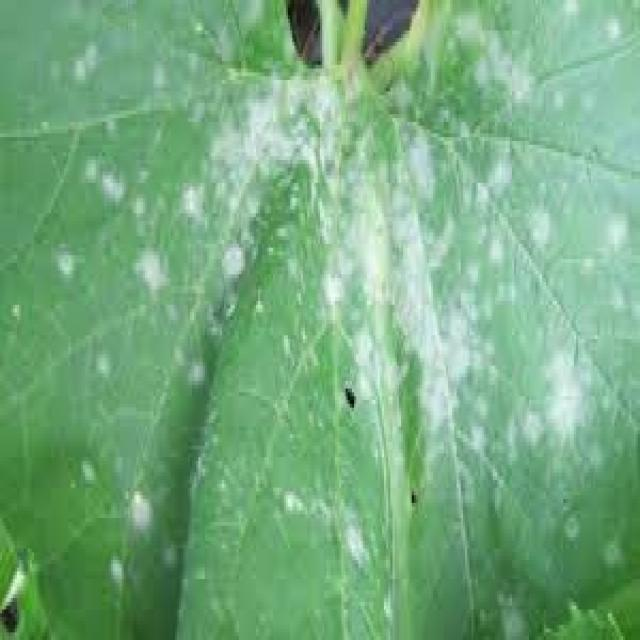powdery-mildew: (325, 125, 476, 498), (183, 67, 350, 289)
